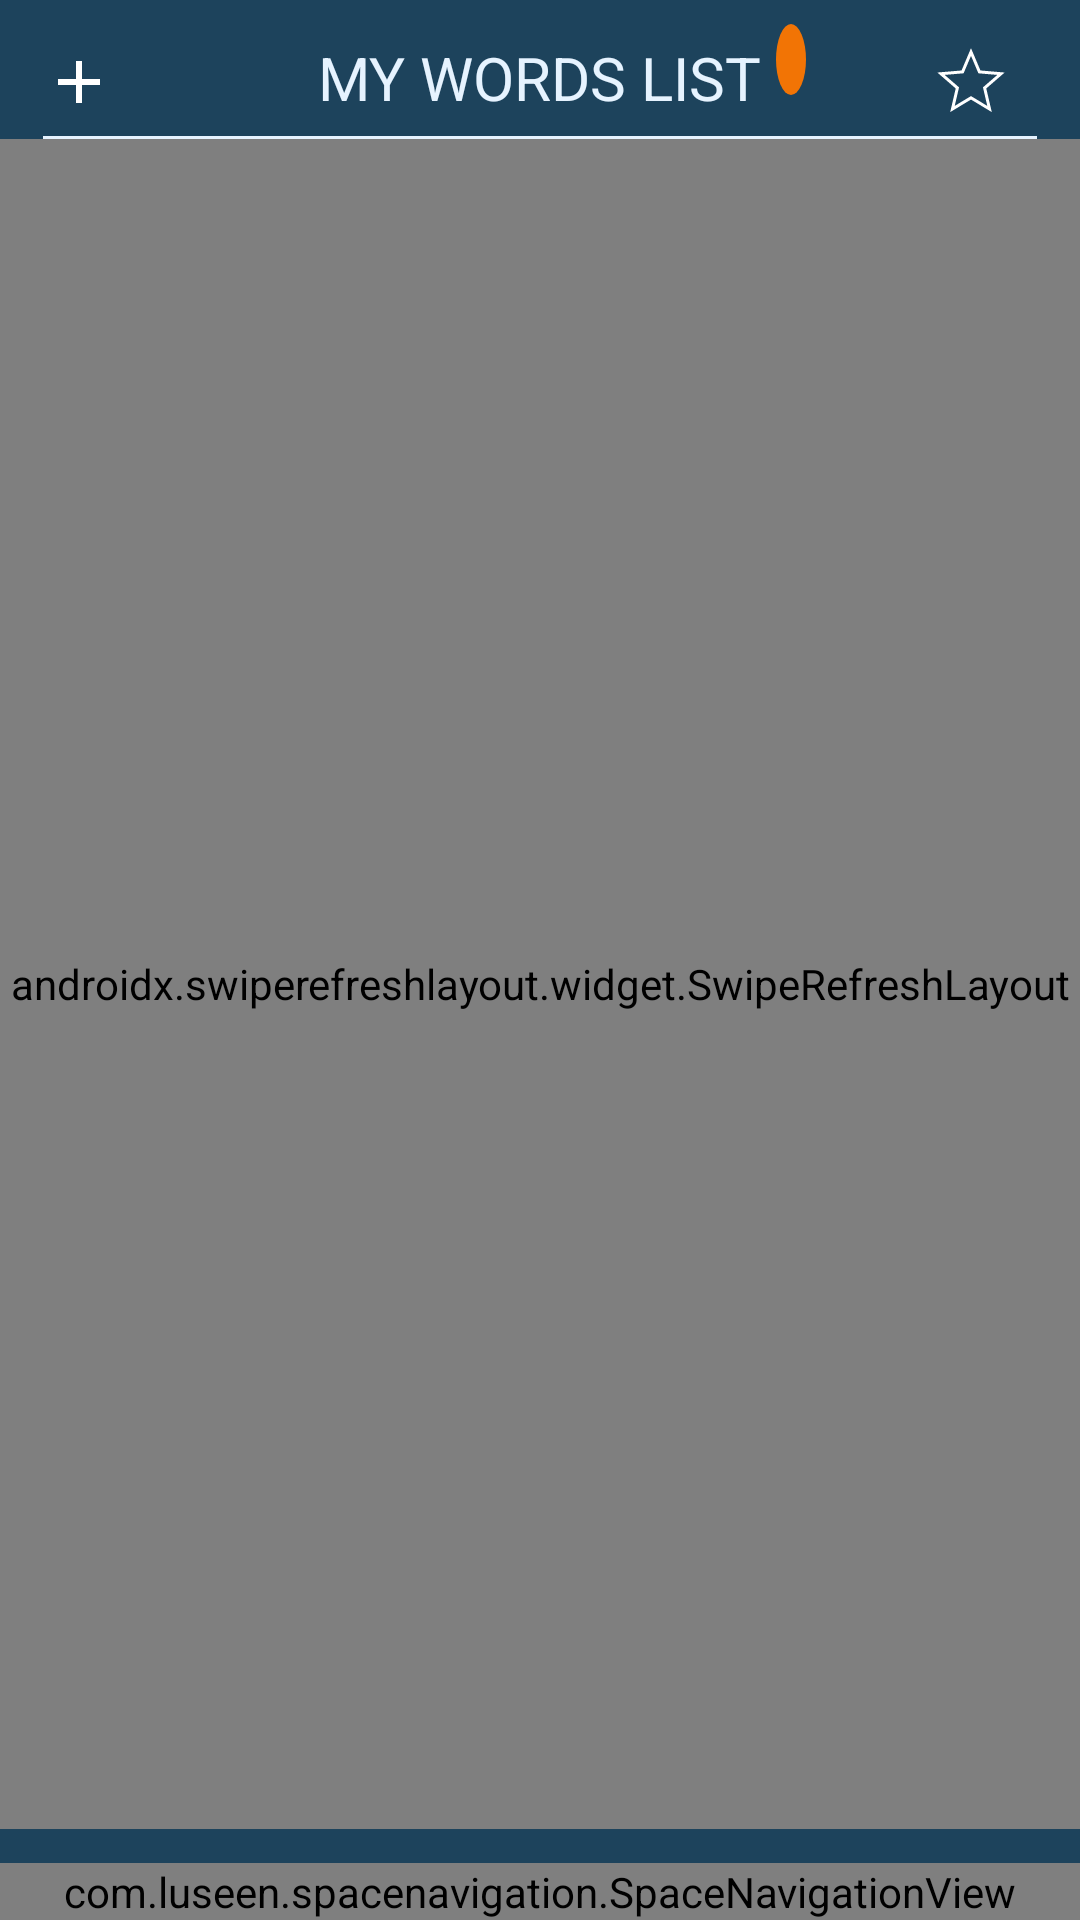

Where to tap for icons on this 1080px×1920px app screen, as [x,y]:
add: [79,82]
favorite empty: [971,80]
